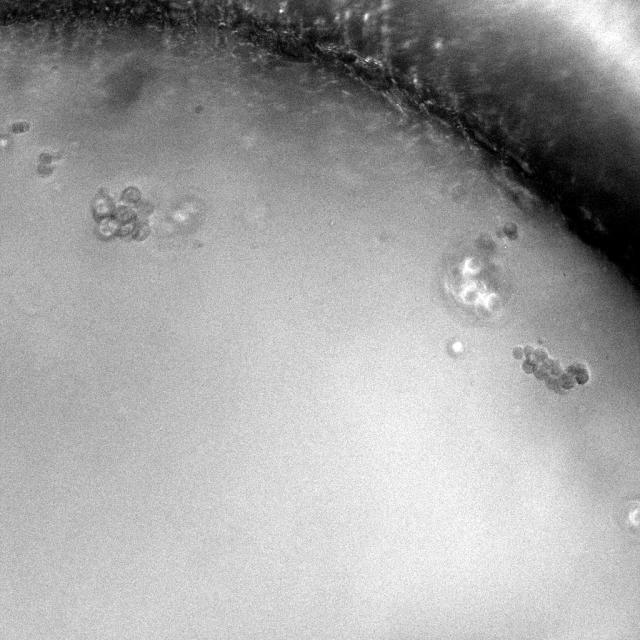organoid: (441, 236, 512, 318), (512, 345, 590, 392), (91, 187, 153, 239), (38, 151, 58, 177), (11, 121, 29, 133)
